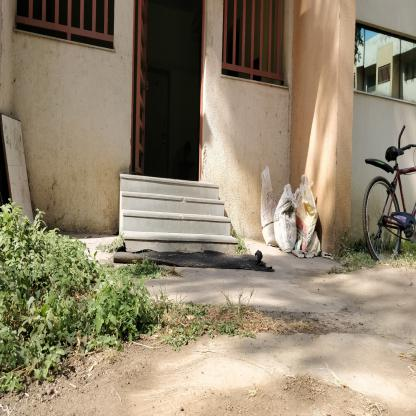stairs: (127, 173, 220, 253)
